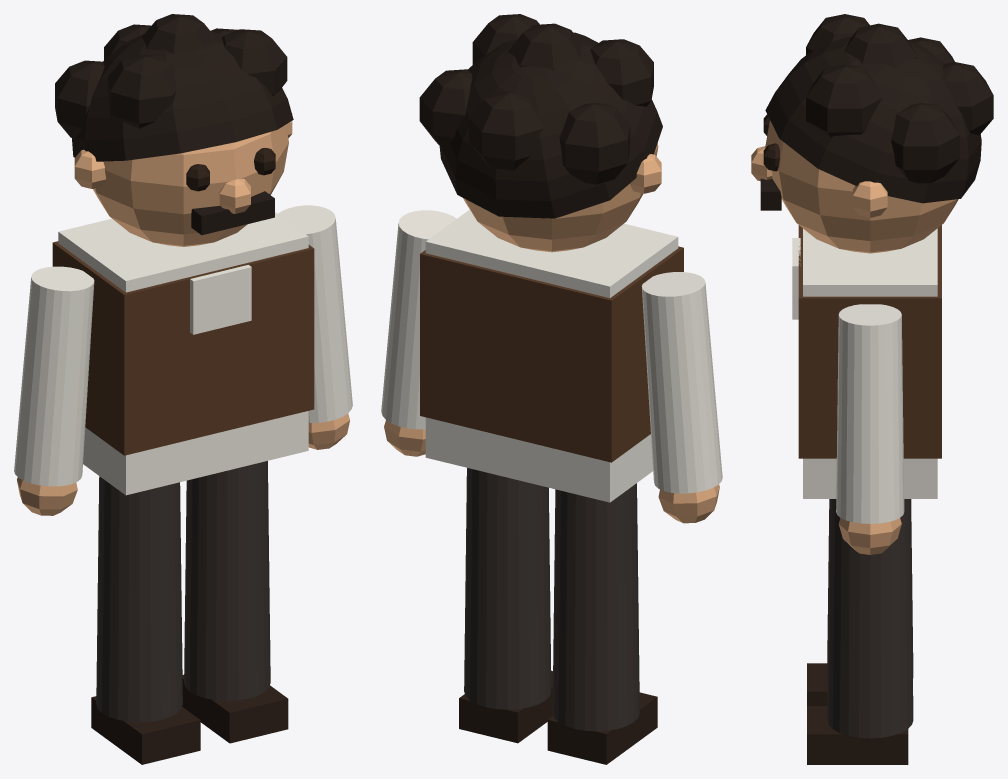
File: ASHOT.glb
3 views of the same model, side by side, from view 1: azimuth 30°, elevation 25°; view 2: azimuth 150°, elevation 25°; view 3: azimuth 270°, elevation 25° (orthographic).
Visible parts, largest first — view 1: head, ashot, leg_left, leg_right, torso, arm_left, arm_right; view 2: head, ashot, leg_left, leg_right, torso, arm_left, arm_right; view 3: head, leg_right, arm_right, ashot, torso, leg_left.
Part boxes in pixels (x1,y1,x2,y2): head: [55, 14, 293, 246]; ashot: [52, 241, 314, 455]; leg_left: [91, 476, 200, 764]; leg_right: [182, 461, 288, 743]; torso: [58, 212, 308, 495]; arm_left: [14, 266, 94, 515]; arm_right: [278, 205, 352, 449]; head: [419, 14, 662, 252]; ashot: [420, 246, 683, 462]; leg_left: [547, 483, 657, 764]; leg_right: [459, 468, 553, 743]; torso: [425, 209, 678, 502]; arm_left: [641, 272, 722, 523]; arm_right: [381, 210, 456, 456]; head: [751, 14, 993, 253]; leg_right: [807, 499, 913, 764]; arm_right: [836, 304, 904, 554]; ashot: [792, 225, 941, 458]; torso: [803, 228, 937, 498]; leg_left: [807, 499, 913, 705].
Size of the model in its own units: 0.9194 by 1.88 by 0.5863.
